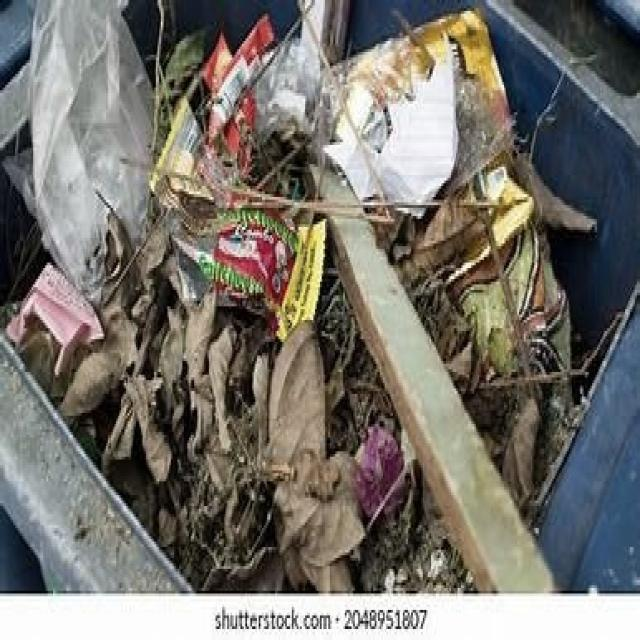Garbage: (1, 0, 586, 600)
Plastic_Bag: (30, 0, 153, 304)
Plastic_wraper: (150, 99, 326, 339), (346, 10, 511, 182), (202, 14, 275, 177)
contaminated_waste: (145, 0, 354, 226), (179, 209, 331, 334)
